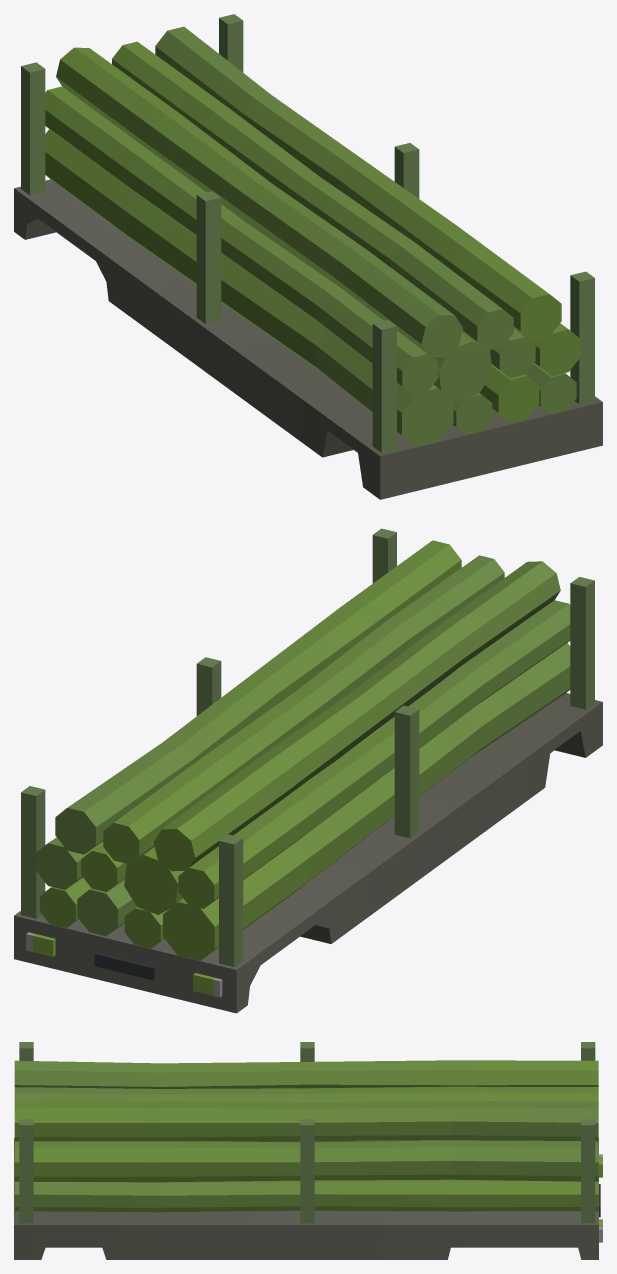
Rendered from Car_32_2.fbx.
The picture shows the model from 3 angles, top to bottom: view 1: azimuth 30°, elevation 25°; view 2: azimuth 150°, elevation 25°; view 3: azimuth 270°, elevation 25°; orthographic projection. The views are drawn at different scales.
Parts seen in each view (by area): view 1: Car_32_2; view 2: Car_32_2; view 3: Car_32_2.
Part boxes in pixels (x1,y1,x2,y2): Car_32_2: (14,14,602,499); Car_32_2: (14,528,602,1013); Car_32_2: (14,1042,602,1259).
Bounding box in the file's own units: 2.32 × 1.69 × 6.65.
